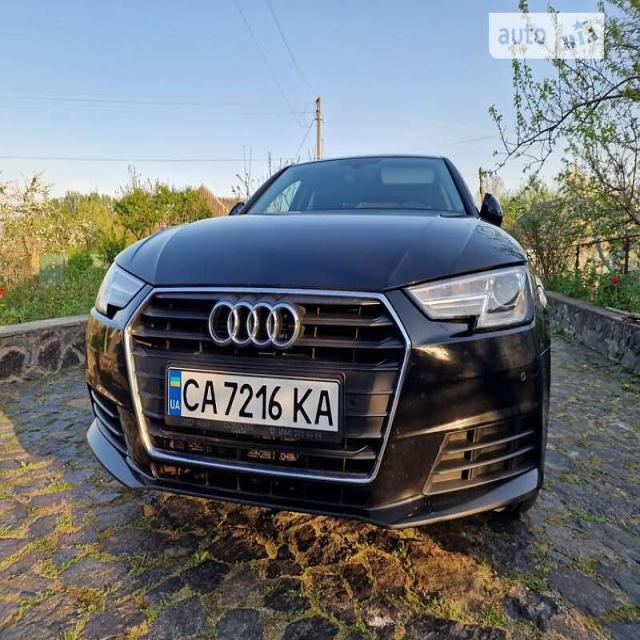plate: (164, 363, 345, 448)
